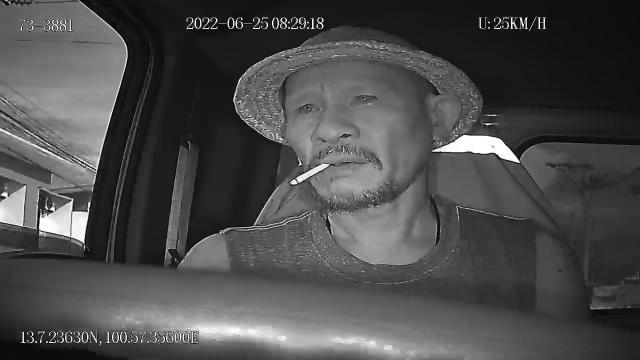SafeDriving: (346, 86, 386, 112), (291, 92, 326, 119)
Smoking: (290, 162, 330, 186)
